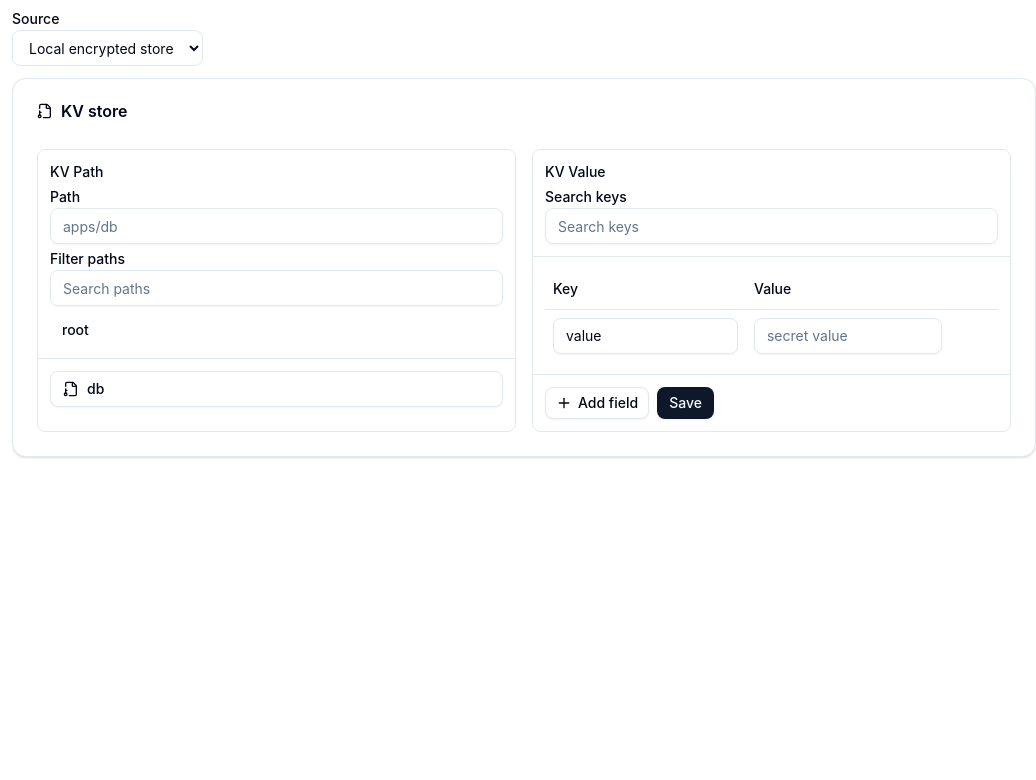
Test: KV secrets editor › keeps a newly added field name visible after save
This screenshot has width=1036, height=780.
Click the button "db" at {"x": 71, "y": 389}, box top-left (50, 371), bottom-right (503, 407)
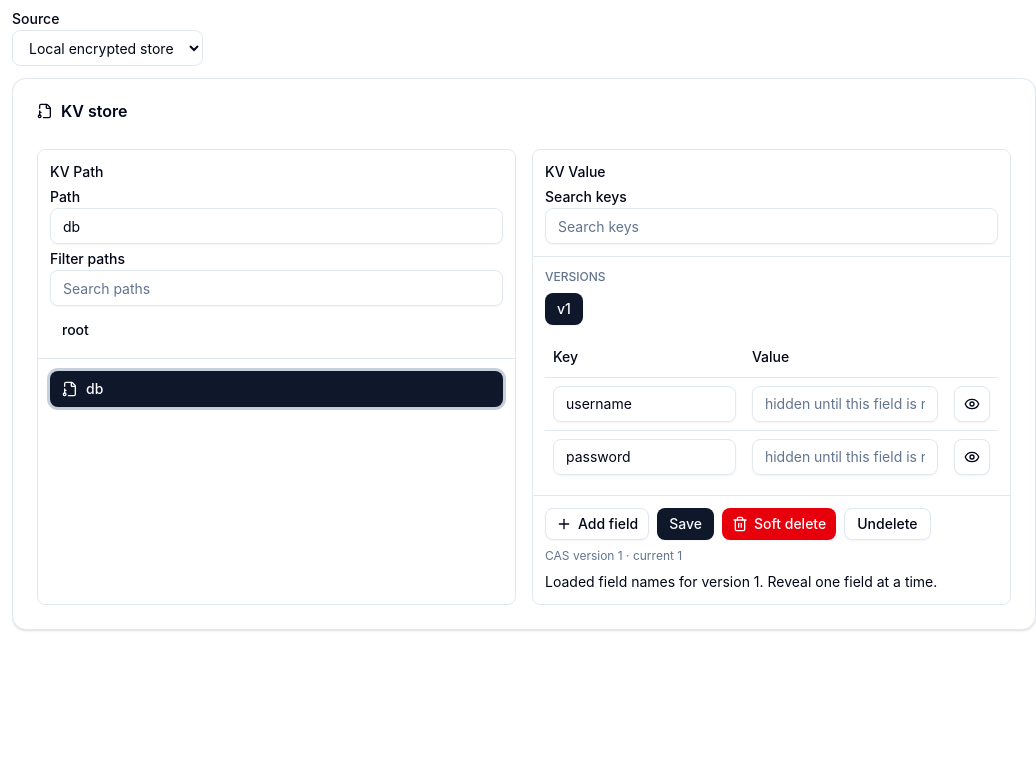
Check: the field showing "username" is shown, box top-left (553, 386), bottom-right (736, 422)
Check: the field showing "password" is shown, box top-left (553, 438), bottom-right (736, 474)
Click the button "Add field" at {"x": 597, "y": 524}, box top-left (545, 508), bottom-right (649, 540)
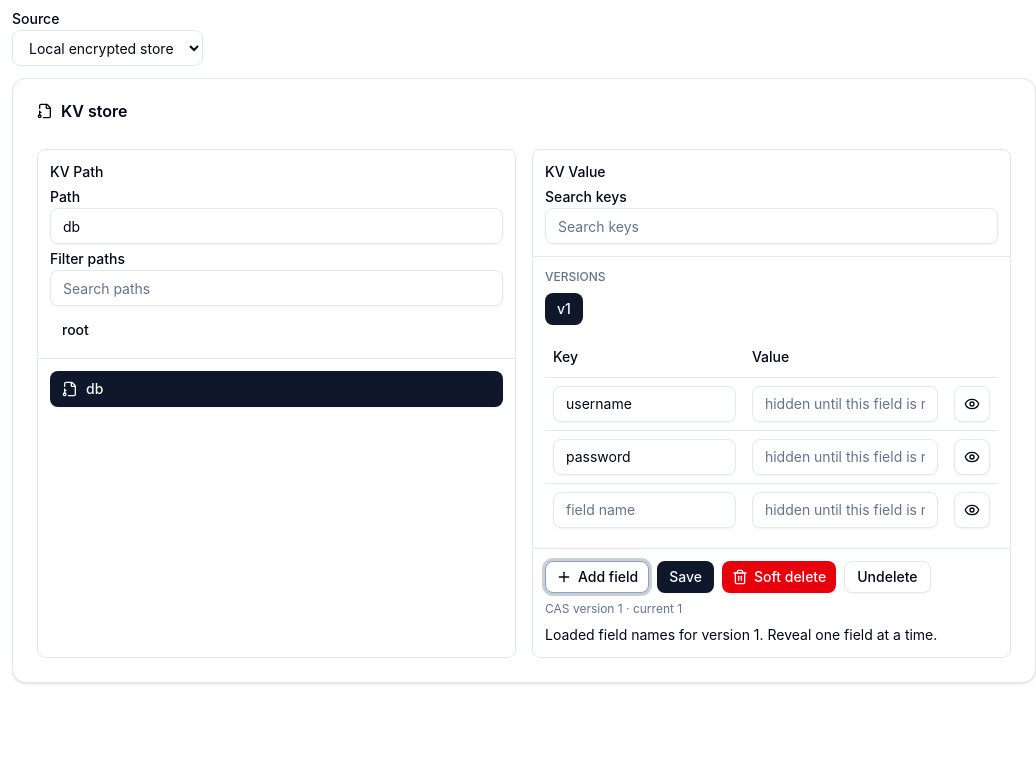
Type "kv-test-field" into the field named "Field 3 name" at {"x": 644, "y": 510}, box top-left (553, 492), bottom-right (736, 528)
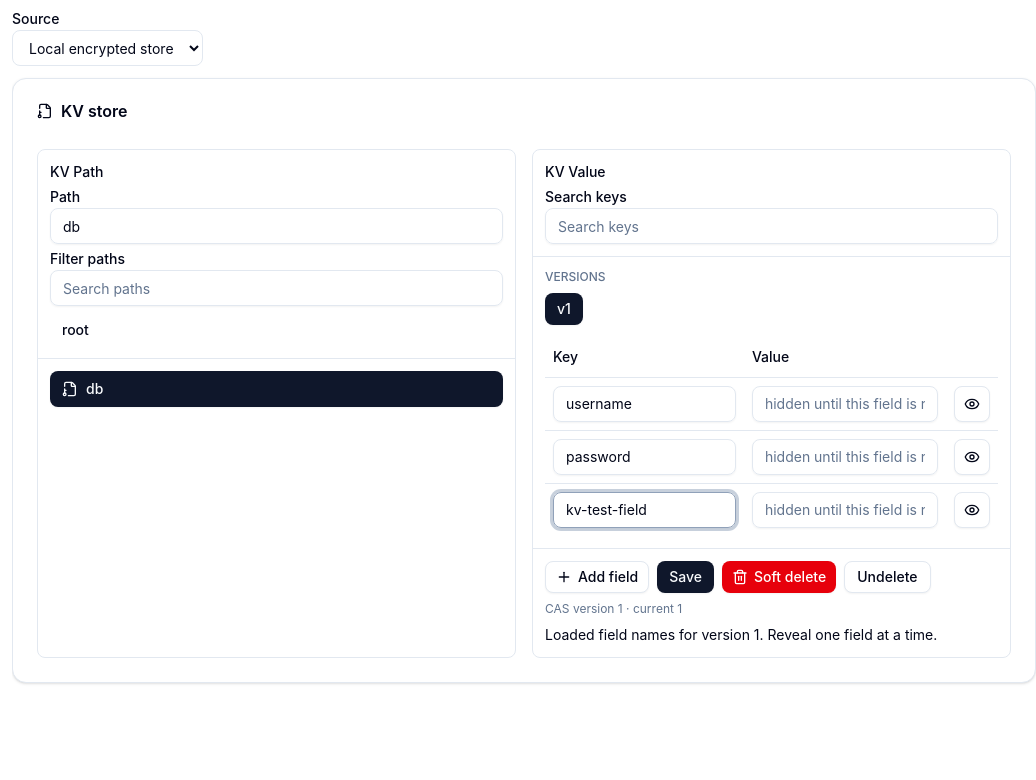
Type "kv-sentinel-alpha" into the password field named "Field 3 value" at {"x": 845, "y": 510}, box top-left (752, 492), bottom-right (938, 528)
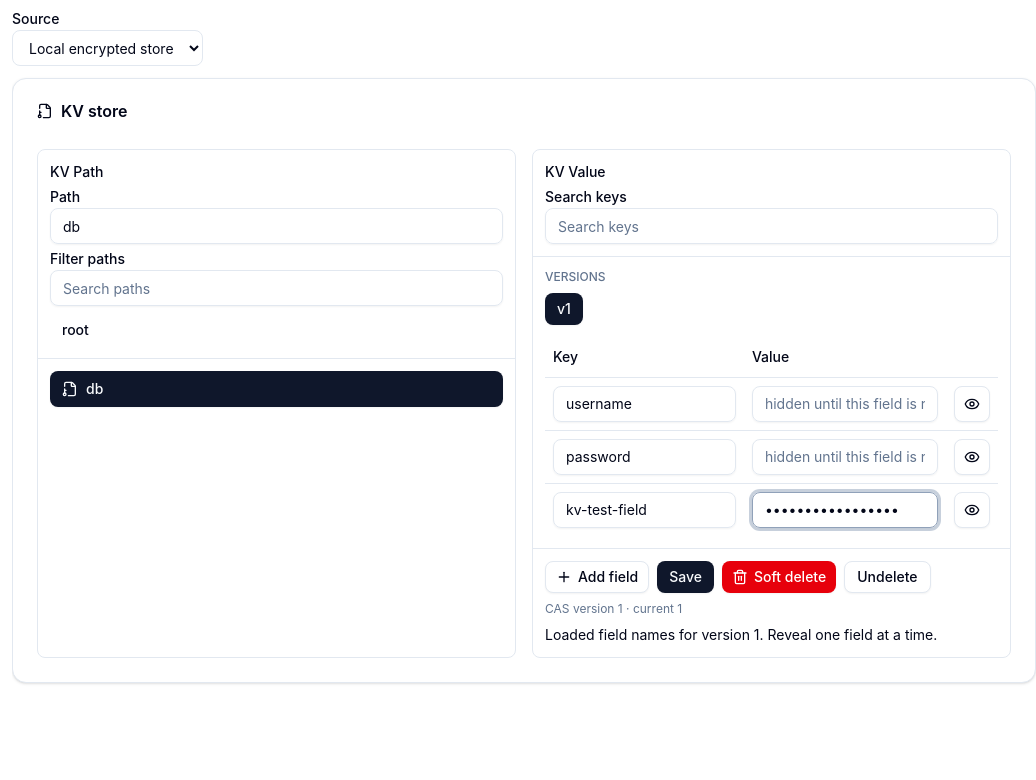
Click the button "Save" at {"x": 686, "y": 576}, box top-left (657, 560), bottom-right (714, 592)
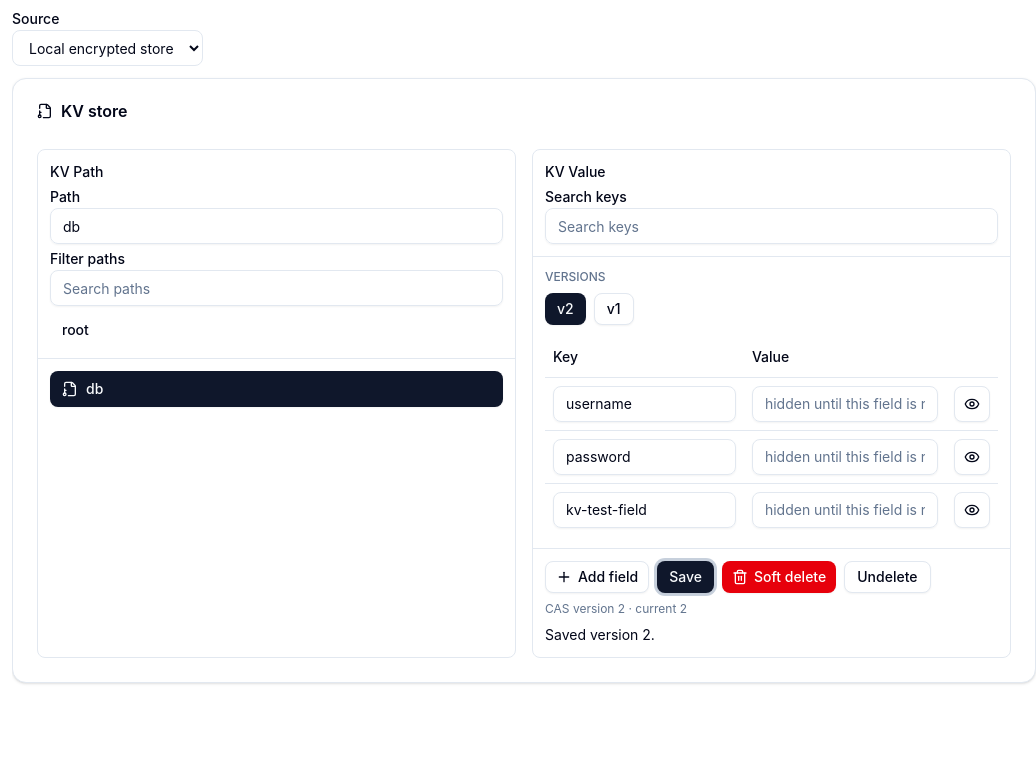
Check: the field showing "username" is shown, box top-left (553, 386), bottom-right (736, 422)
Check: the field showing "password" is shown, box top-left (553, 438), bottom-right (736, 474)
Check: the text "Saved version 2." is shown, box top-left (545, 626), bottom-right (655, 642)
